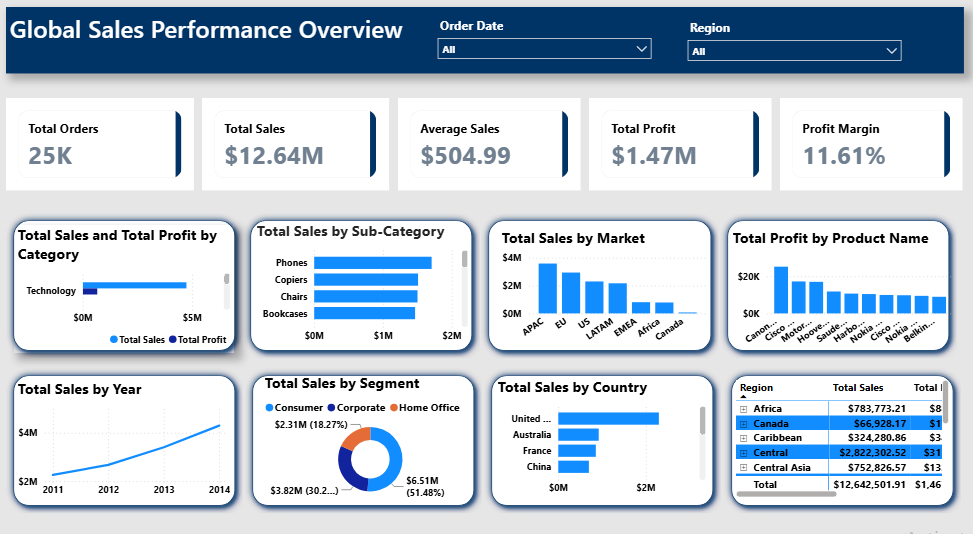

What the dashboard file says about the page in this screenshot:
{"tool":"powerbi","page":{"name":"Page 1","canvas":[1280,720],"ordinal":0},"visuals":[{"type":"cardVisual","fields":{"Data":["Global_Superstore2.Total Sales"]},"box":[271.1,145.9,245,121.1],"z":0},{"type":"cardVisual","fields":{"Data":["Global_Superstore2.Average Sales"]},"box":[527.1,145.9,239.5,121.1],"z":1000},{"type":"cardVisual","fields":{"Data":["Global_Superstore2.Total Orders"]},"box":[13.8,145.9,246.4,121.1],"z":2000},{"type":"cardVisual","fields":{"Data":["Global_Superstore2.Total Profit"]},"box":[777.6,145.9,239.5,121.1],"z":3000},{"type":"cardVisual","fields":{"Data":["Global_Superstore2.Profit Margin"]},"box":[1028.1,145.9,239.5,121.1],"z":4000},{"type":"shape","box":[325.3,295.9,309.7,189.9],"z":6000},{"type":"shape","box":[636.8,295.9,311.1,189.9],"z":7000},{"type":"textbox","box":[13.8,26.2,1253.8,86.7],"z":7500},{"type":"shape","box":[949.7,295.9,309.7,189.9],"z":8000},{"type":"shape","box":[953.8,498.2,310,189.9],"z":9000},{"type":"shape","box":[640.5,498.2,309.7,189.9],"z":10000},{"type":"shape","box":[327.1,498.2,309.7,189.9],"z":11000},{"type":"shape","box":[13.8,498.2,309.7,189.9],"z":12000},{"type":"shape","box":[13.8,295.9,309.7,189.9],"z":13000},{"type":"clusteredBarChart","fields":{"Category":["Global_Superstore2.Sub-Category"],"Y":["Global_Superstore2.Total Sales"]},"box":[337.2,306.9,286.3,167.9],"z":14000},{"type":"clusteredBarChart","fields":{"Category":["Global_Superstore2.Category"],"Y":["Global_Superstore2.Total Sales","Global_Superstore2.Total Profit"]},"box":[24.8,311.1,287.7,167.9],"z":15000},{"type":"clusteredColumnChart","fields":{"Y":["Global_Superstore2.Total Sales"],"Category":["Global_Superstore2.Market"]},"box":[657.9,315.2,278,163.8],"z":16000},{"type":"clusteredColumnChart","fields":{"Category":["Global_Superstore2.Product Name"],"Y":["Global_Superstore2.Total Profit"]},"box":[960.7,315.2,298.7,163.8],"z":17000},{"type":"lineChart","fields":{"Category":["Global_Superstore2.Order Date.Variation.Date Hierarchy.Year","Global_Superstore2.Order Date.Variation.Date Hierarchy.Month"],"Y":["Global_Superstore2.Total Sales"]},"box":[24.8,513.4,287.7,163.8],"z":18000},{"type":"donutChart","fields":{"Category":["Global_Superstore2.Segment"],"Y":["Global_Superstore2.Total Sales"]},"box":[348.2,505.1,286.3,172],"z":19000},{"type":"pivotTable","fields":{"Rows":["Global_Superstore2.Region","Global_Superstore2.Country"],"Values":["Global_Superstore2.Total Sales","Global_Superstore2.Total Profit","Global_Superstore2.Profit Margin"]},"box":[964.8,509.2,289,163.8],"z":20000},{"type":"clusteredBarChart","fields":{"Category":["Global_Superstore2.Country"],"Y":["Global_Superstore2.Total Sales"]},"box":[653.8,510.6,282.2,163.8],"z":21000},{"type":"slicer","fields":{"Values":["Global_Superstore2.Order Date"]},"box":[569.8,34.4,300,70.2],"z":22000},{"type":"slicer","fields":{"Values":["Global_Superstore2.Region"]},"box":[897.4,37.2,300,70],"z":22001}]}

Visuals, with their boxes in screenshot pixels (x1, y1, x2, y2), scaled from the page's 1280x720 canvas onto the 973x534 screenshot:
cardVisual - Global_Superstore2.Total Sales: (206, 108, 392, 198)
cardVisual - Global_Superstore2.Average Sales: (401, 108, 583, 198)
cardVisual - Global_Superstore2.Total Orders: (10, 108, 198, 198)
cardVisual - Global_Superstore2.Total Profit: (591, 108, 773, 198)
cardVisual - Global_Superstore2.Profit Margin: (782, 108, 964, 198)
shape: (247, 219, 483, 360)
shape: (484, 219, 721, 360)
textbox: (10, 19, 964, 84)
shape: (722, 219, 957, 360)
shape: (725, 369, 961, 510)
shape: (487, 369, 722, 510)
shape: (249, 369, 484, 510)
shape: (10, 369, 246, 510)
shape: (10, 219, 246, 360)
clusteredBarChart - Global_Superstore2.Sub-Category x Global_Superstore2.Total Sales: (256, 228, 474, 352)
clusteredBarChart - Global_Superstore2.Category x Global_Superstore2.Total Sales: (19, 231, 238, 355)
clusteredColumnChart - Global_Superstore2.Total Sales x Global_Superstore2.Market: (500, 234, 711, 355)
clusteredColumnChart - Global_Superstore2.Product Name x Global_Superstore2.Total Profit: (730, 234, 957, 355)
lineChart - Global_Superstore2.Order Date.Variation.Date Hierarchy.Year x Global_Superstore2.Order Date.Variation.Date Hierarchy.Month: (19, 381, 238, 502)
donutChart - Global_Superstore2.Segment x Global_Superstore2.Total Sales: (265, 375, 482, 502)
pivotTable - Global_Superstore2.Region x Global_Superstore2.Country: (733, 378, 953, 499)
clusteredBarChart - Global_Superstore2.Country x Global_Superstore2.Total Sales: (497, 379, 712, 500)
slicer - Global_Superstore2.Order Date: (433, 26, 661, 78)
slicer - Global_Superstore2.Region: (682, 28, 910, 80)
